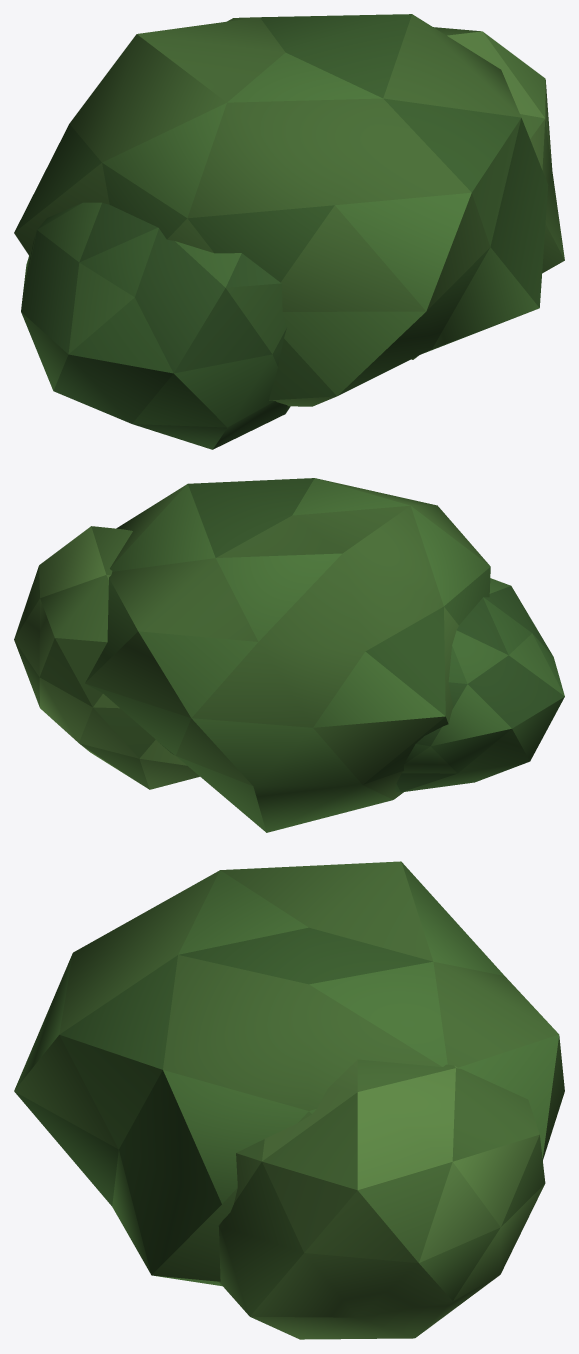
Rendered from detail_shrubLow.glb.
The picture shows the model from 3 angles, top to bottom: view 1: azimuth 30°, elevation 25°; view 2: azimuth 150°, elevation 25°; view 3: azimuth 270°, elevation 25°; orthographic projection. The views are drawn at different scales.
Parts seen in each view (by area): view 1: detail_shrubLow_LOD0; view 2: detail_shrubLow_LOD0; view 3: detail_shrubLow_LOD0.
Boxes of the visible parts, bbox=[...] form: detail_shrubLow_LOD0: bbox=[14, 14, 564, 449]; detail_shrubLow_LOD0: bbox=[14, 478, 564, 832]; detail_shrubLow_LOD0: bbox=[14, 861, 564, 1339].
Size of what is drawn, in the model's own units: 1.39 by 0.8242 by 1.13.
Materials: 1 (1 with a texture image).
